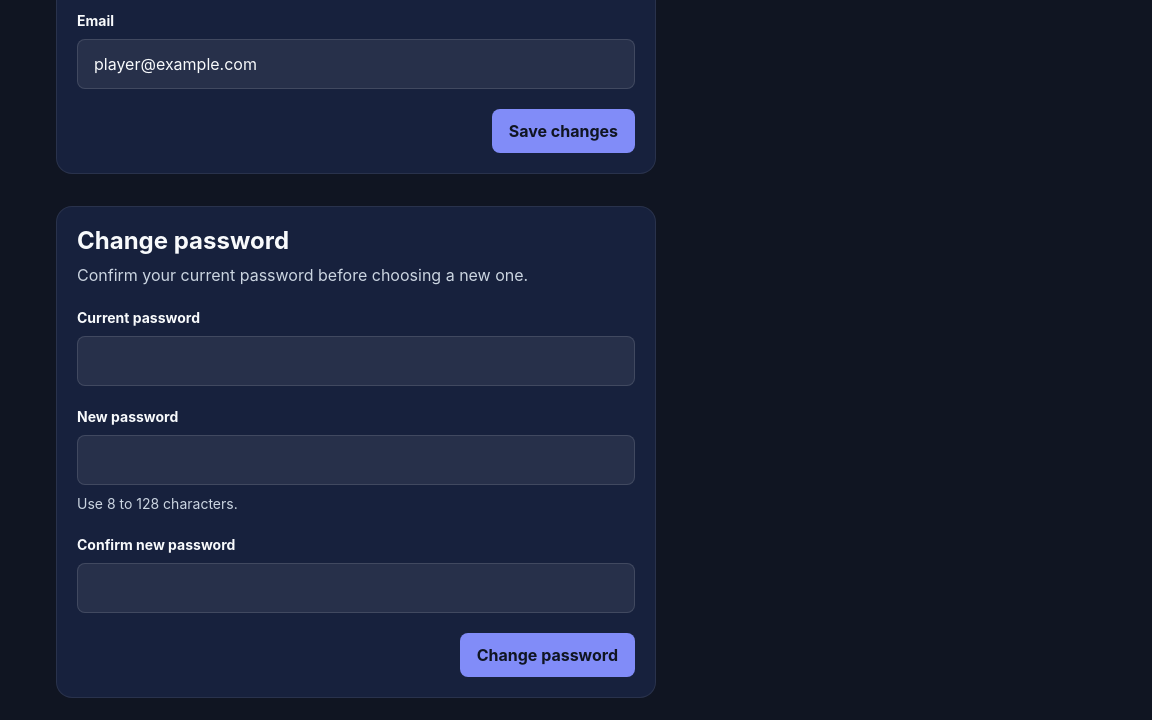
Test: AccountPage password change › changes a password when confirmation matches
(page scrolled)
In the password field labelled "Current password": (356, 360) left=77, top=336, right=635, bottom=386, type "current-password"
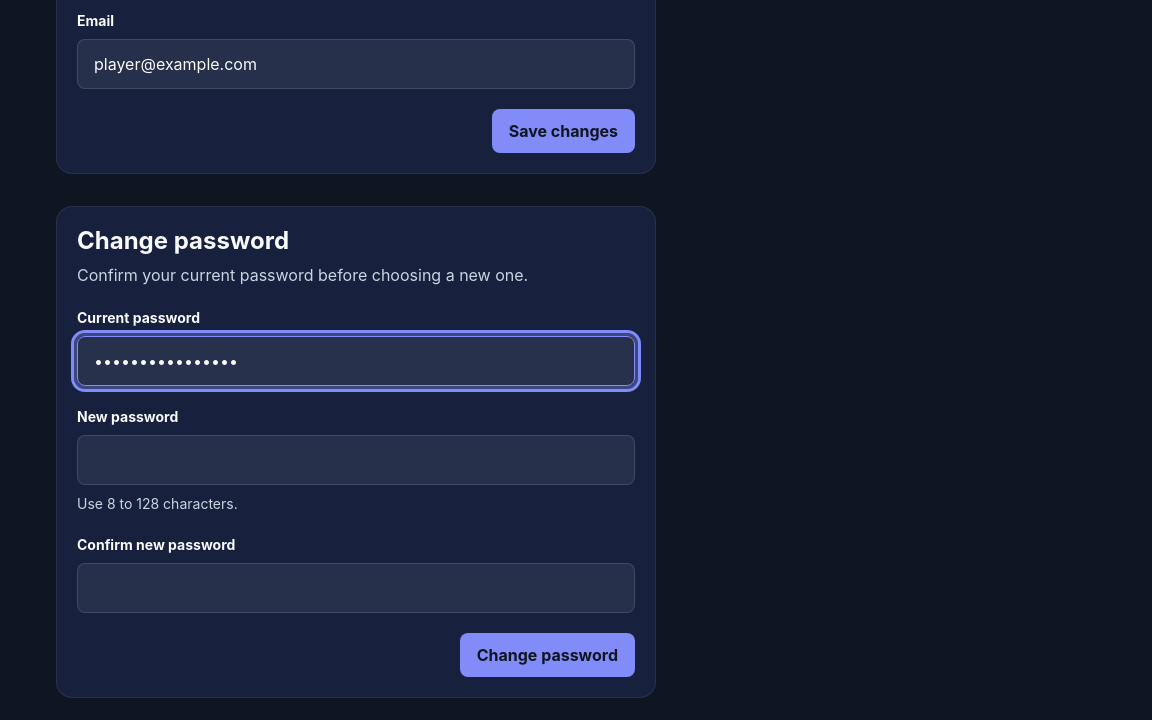
In the password field labelled "New password": (356, 460) left=77, top=434, right=635, bottom=484, type "new-password"
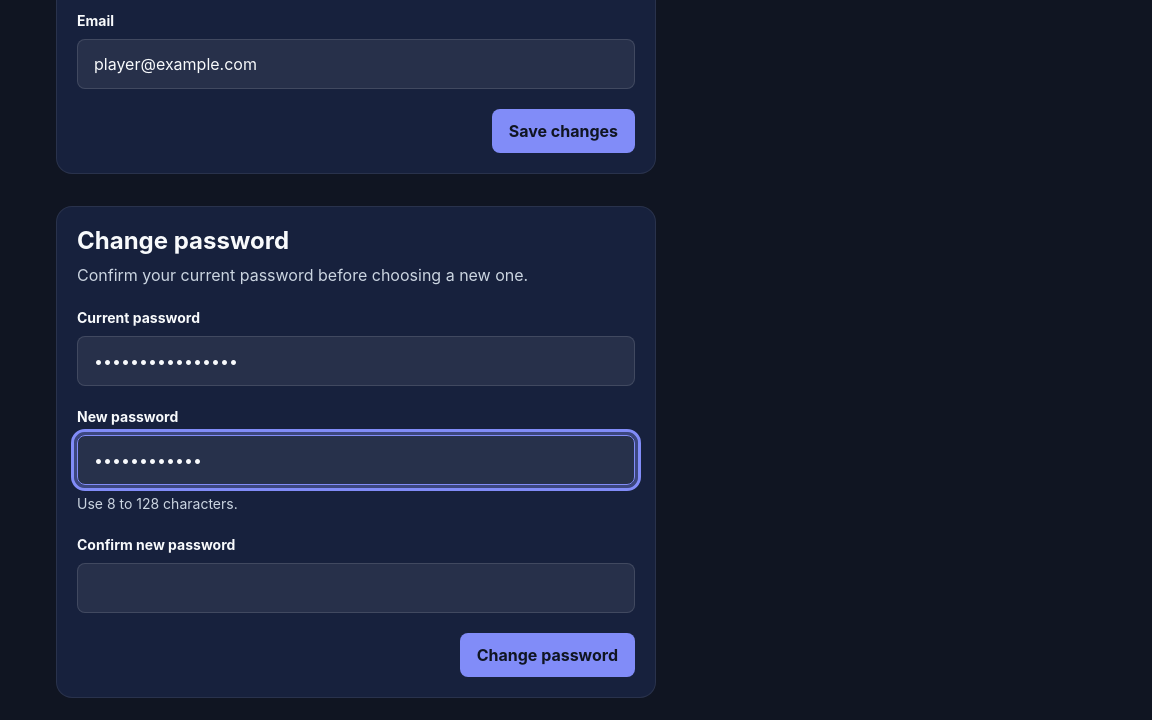
In the password field labelled "Confirm new password": (356, 588) left=77, top=562, right=635, bottom=612, type "new-password"
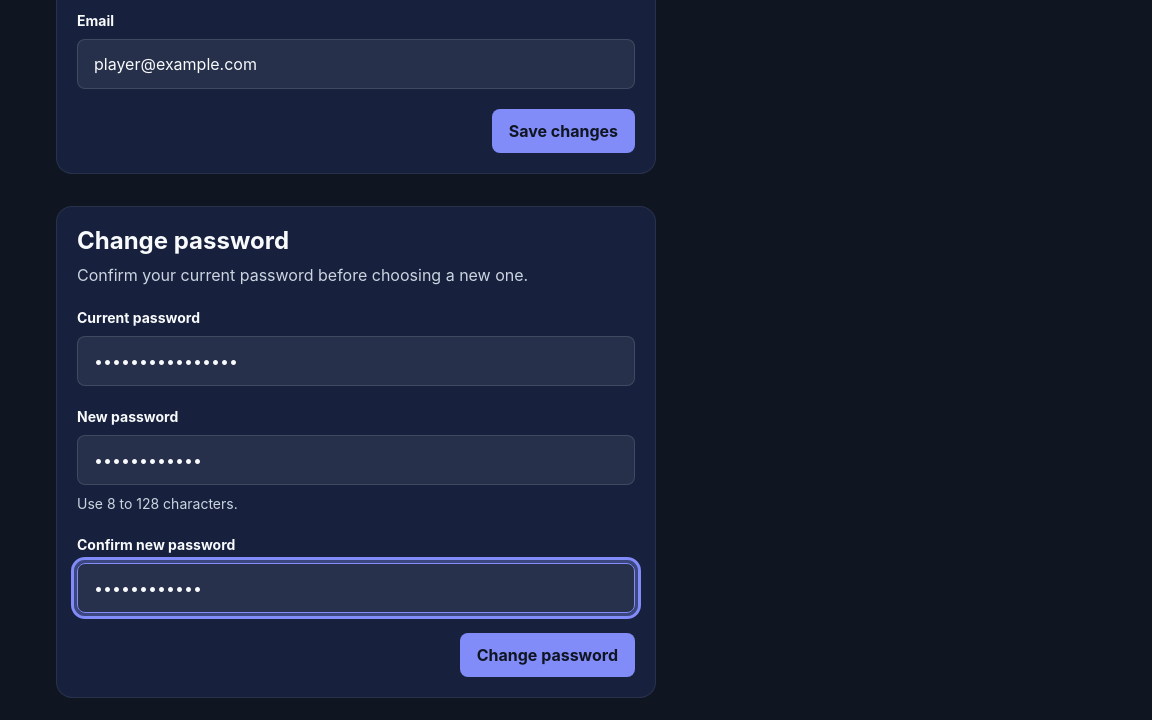
Click the button "Change password": (547, 654) left=460, top=632, right=635, bottom=676
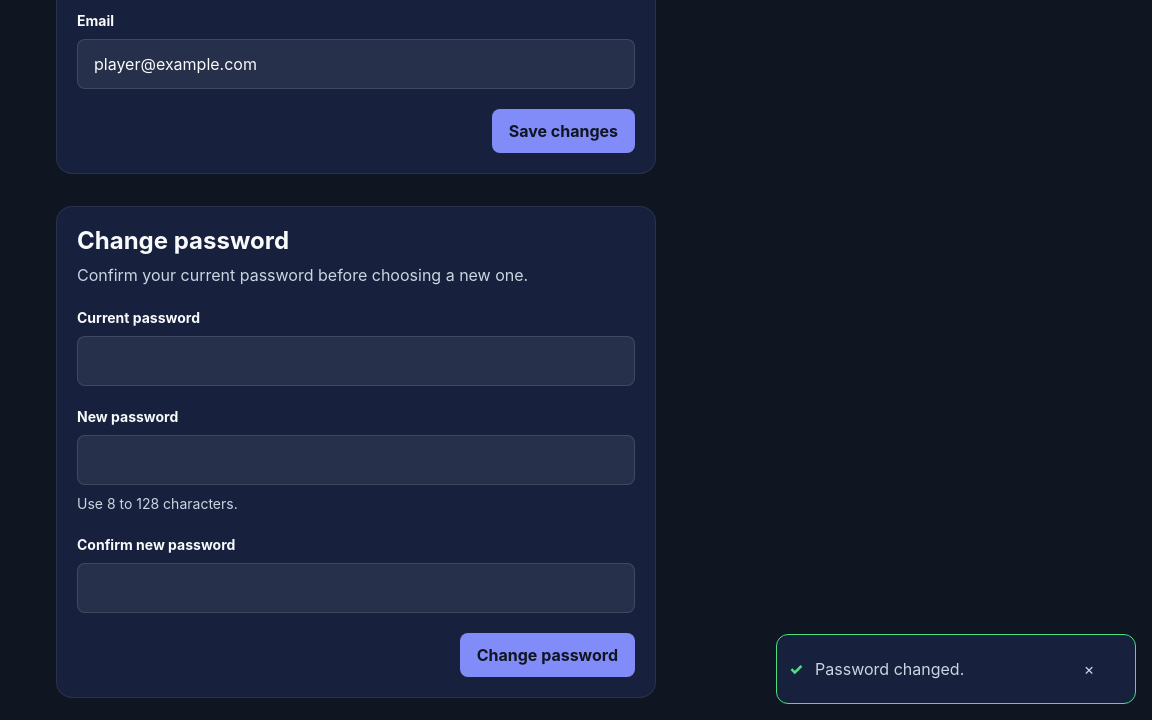
Now the text "Password changed." is shown, box left=815, top=659, right=964, bottom=679
